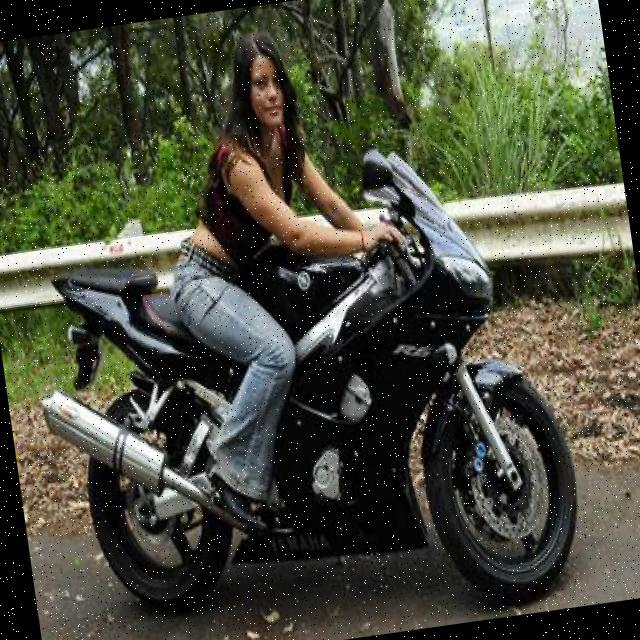No helmet: (204, 24, 326, 166)
